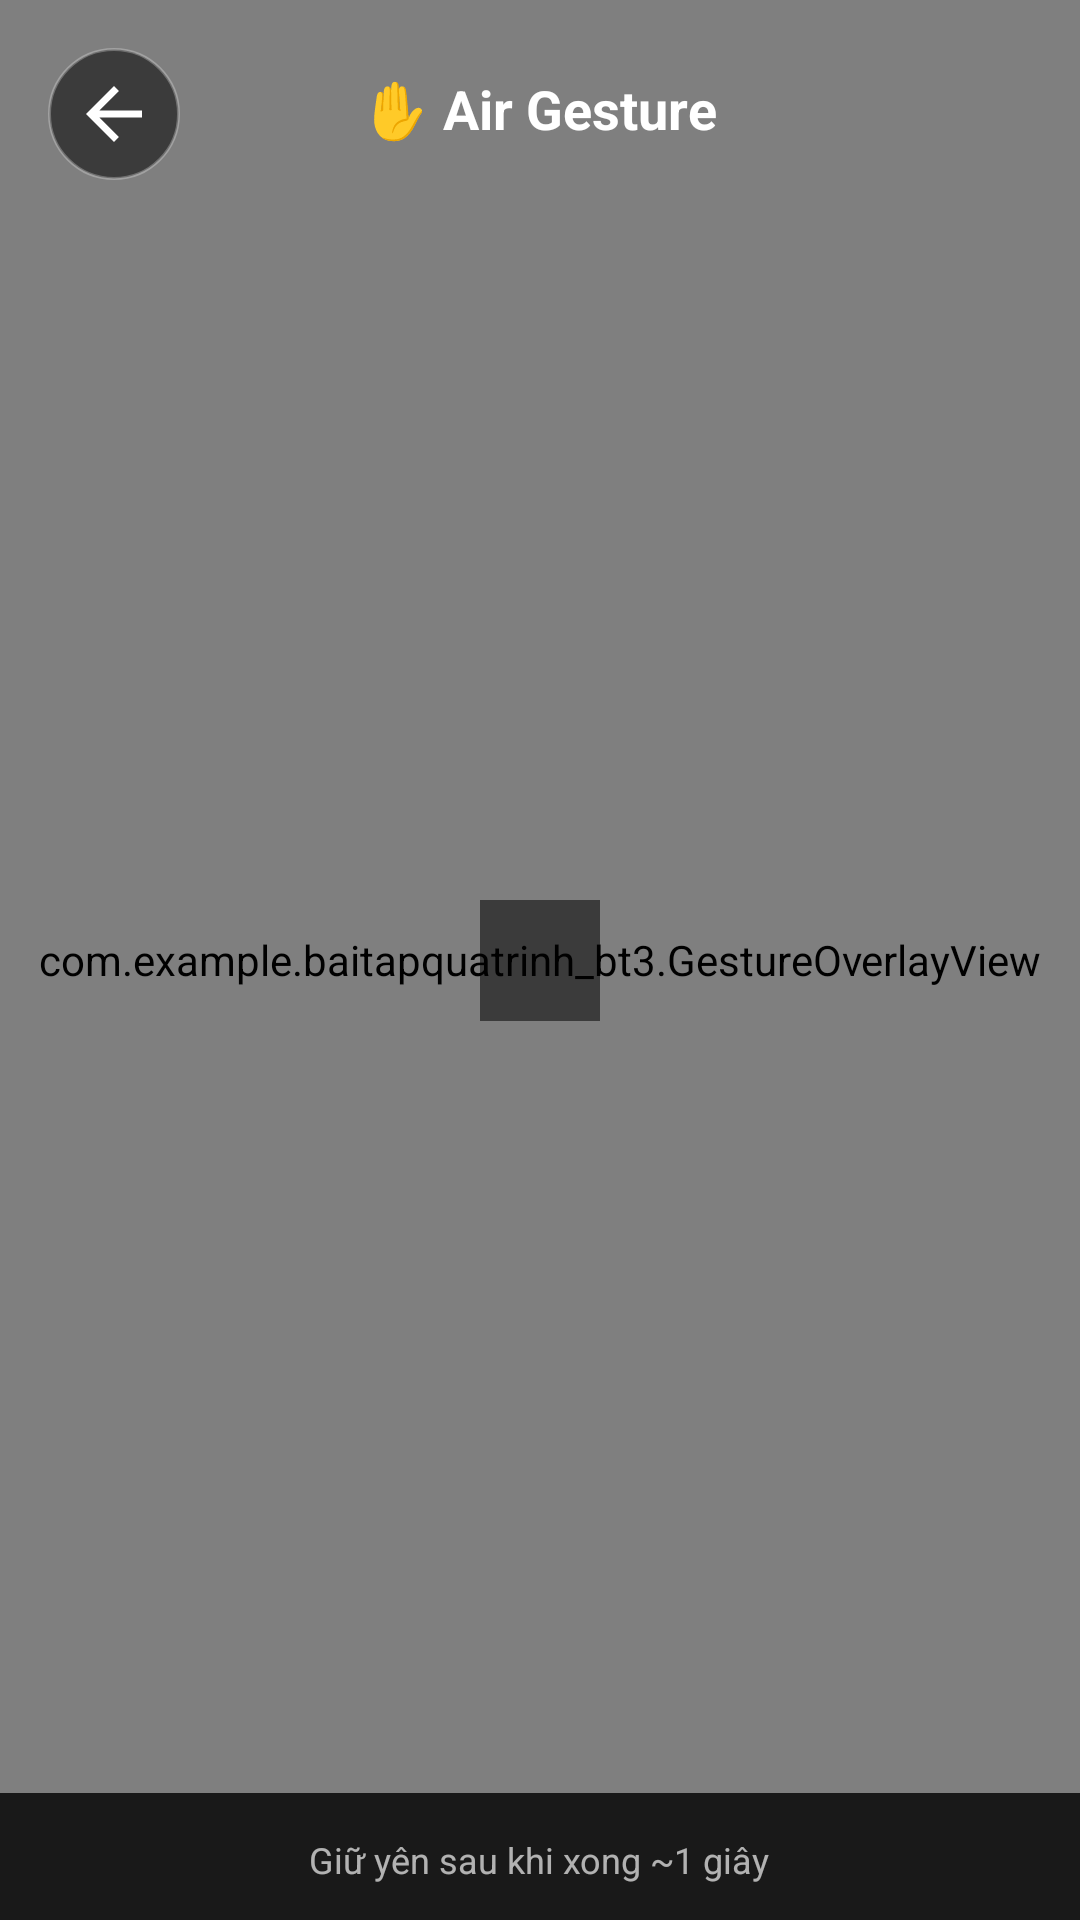

Point at icon controls on the screen. Image size 1080 × 1920, points as (x=x, y=y).
back: (x=114, y=114)
